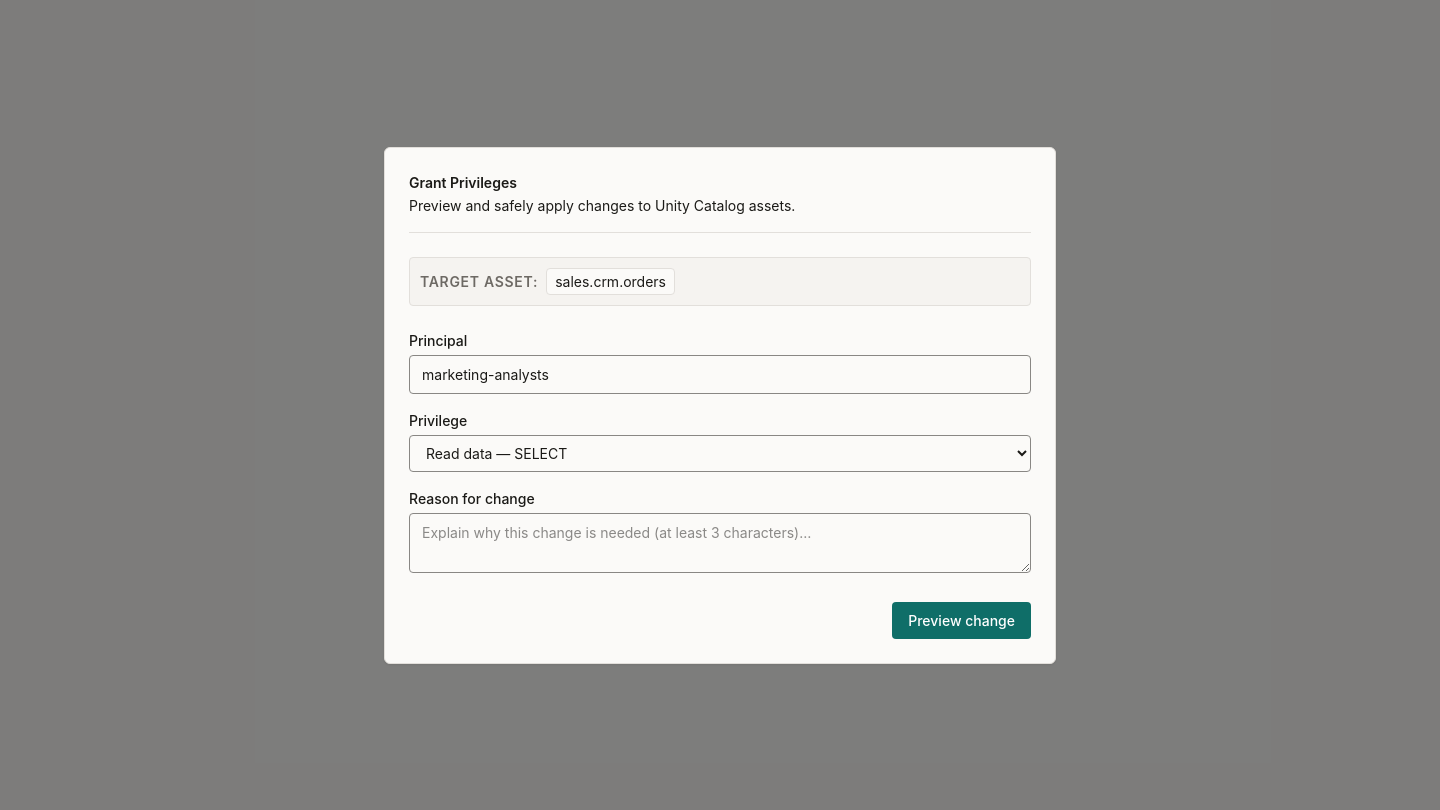
Test case: PlanFlow (Mutation lifecycle P1-08) › impact.unknown is visible without any interaction
In the text box with placeholder "Explain why this change is needed (at least 3 characters)…": (720, 542) x1=409 y1=512 x2=1031 y2=572, type "Compliance audit"
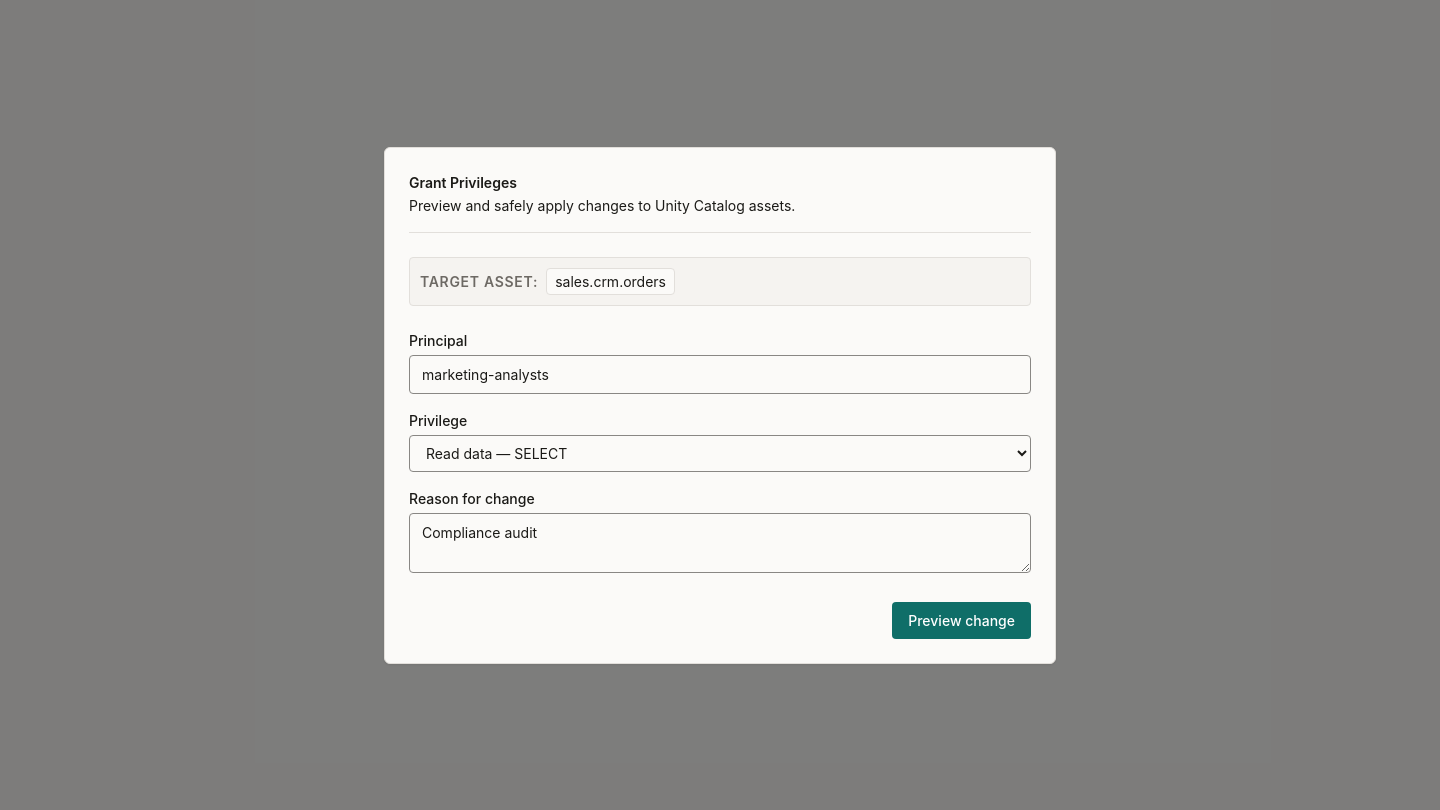
Click the button "Preview change": click(962, 620) x1=892 y1=602 x2=1031 y2=638
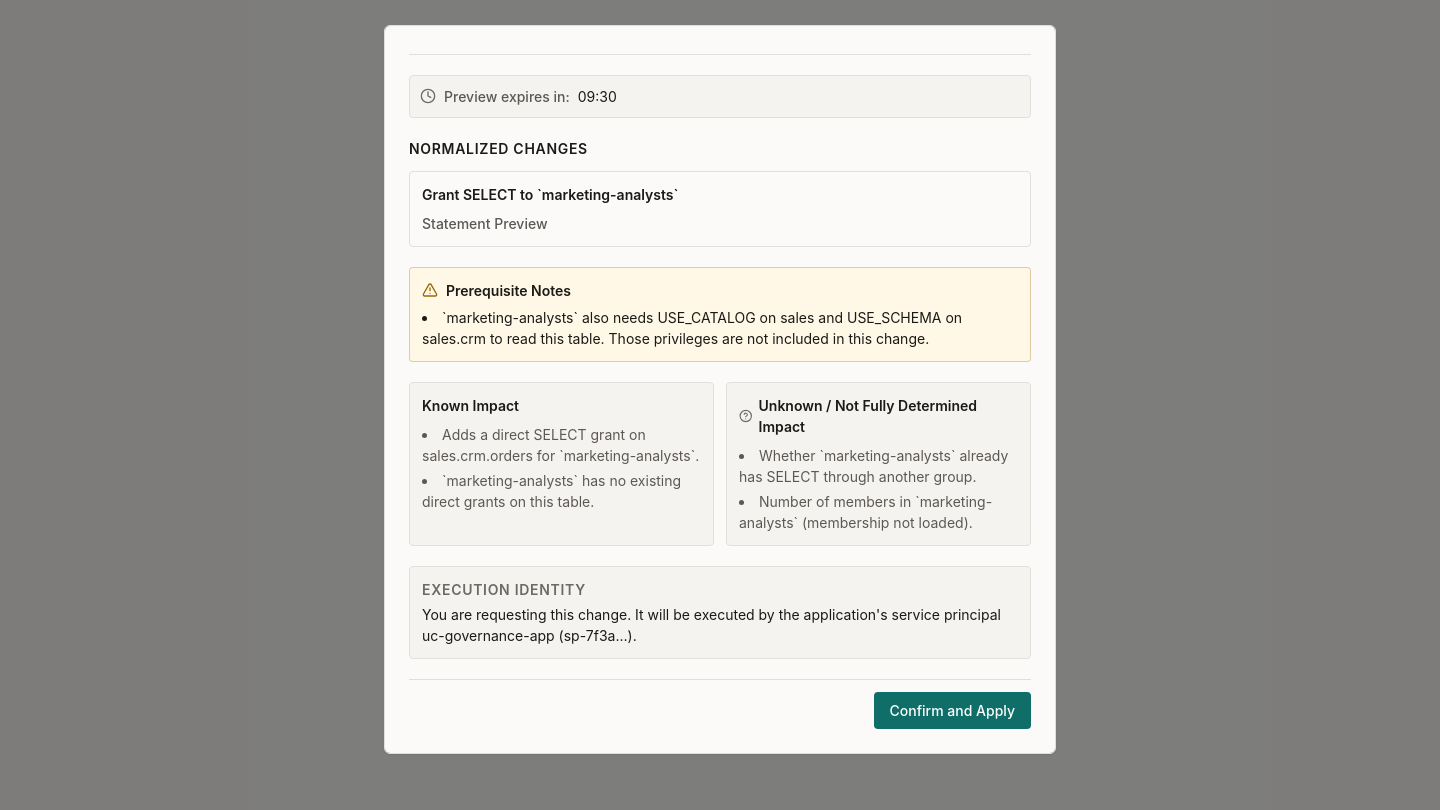
Check: the list item "Whether `marketing-analysts` already has SELECT through another group." is shown, box x1=739 y1=444 x2=1018 y2=486
Check: the list item "Number of members in `marketing-analysts` (membership not loaded)." is shown, box x1=739 y1=490 x2=1018 y2=532
Check: the element with test id "impact-unknown" is shown, box x1=726 y1=382 x2=1031 y2=546
